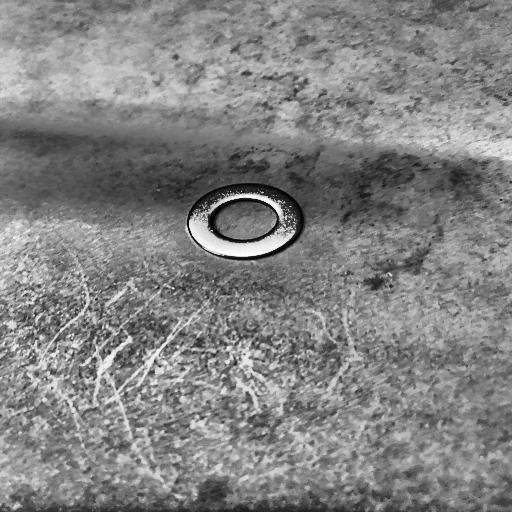Washer: (185, 182, 305, 261)
